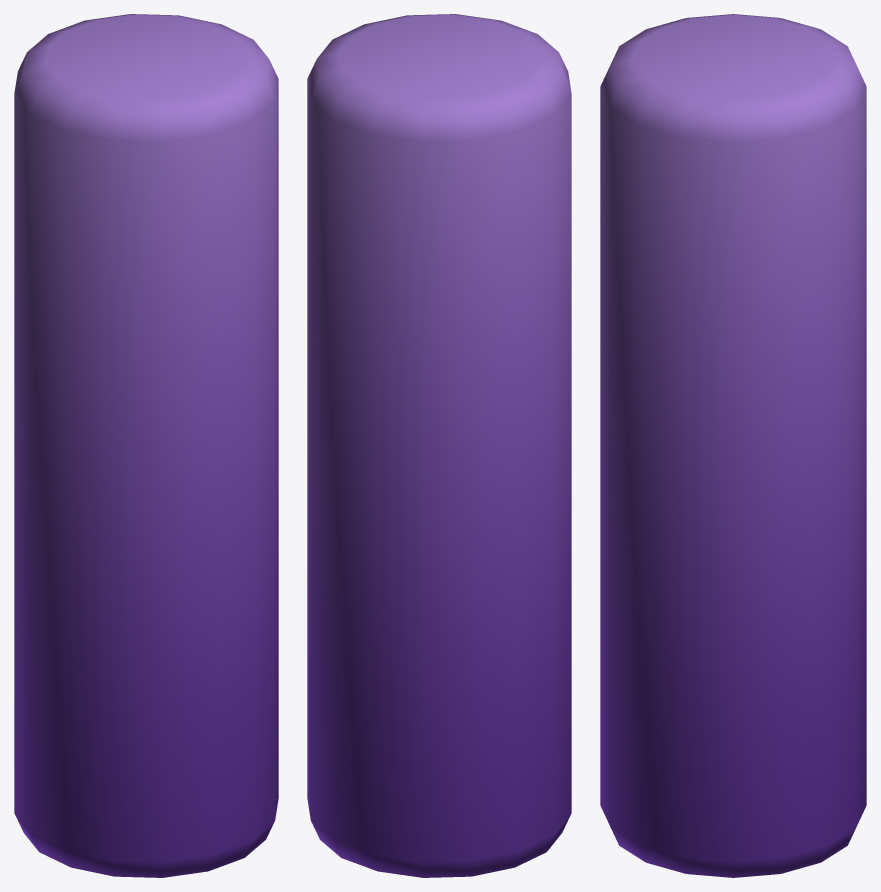
The model's file is flask_003.fbx.
3 renders of one model, left to right at view 1: azimuth 30°, elevation 25°; view 2: azimuth 150°, elevation 25°; view 3: azimuth 270°, elevation 25°, orthographic.
Visible parts, largest first — view 1: flask_003; view 2: flask_003; view 3: flask_003.
Part boxes in pixels (bbox=[...]): flask_003: bbox=[14, 14, 278, 877]; flask_003: bbox=[307, 14, 571, 877]; flask_003: bbox=[600, 14, 866, 877].
Size of the model in its own units: 248 by 248 by 799.
